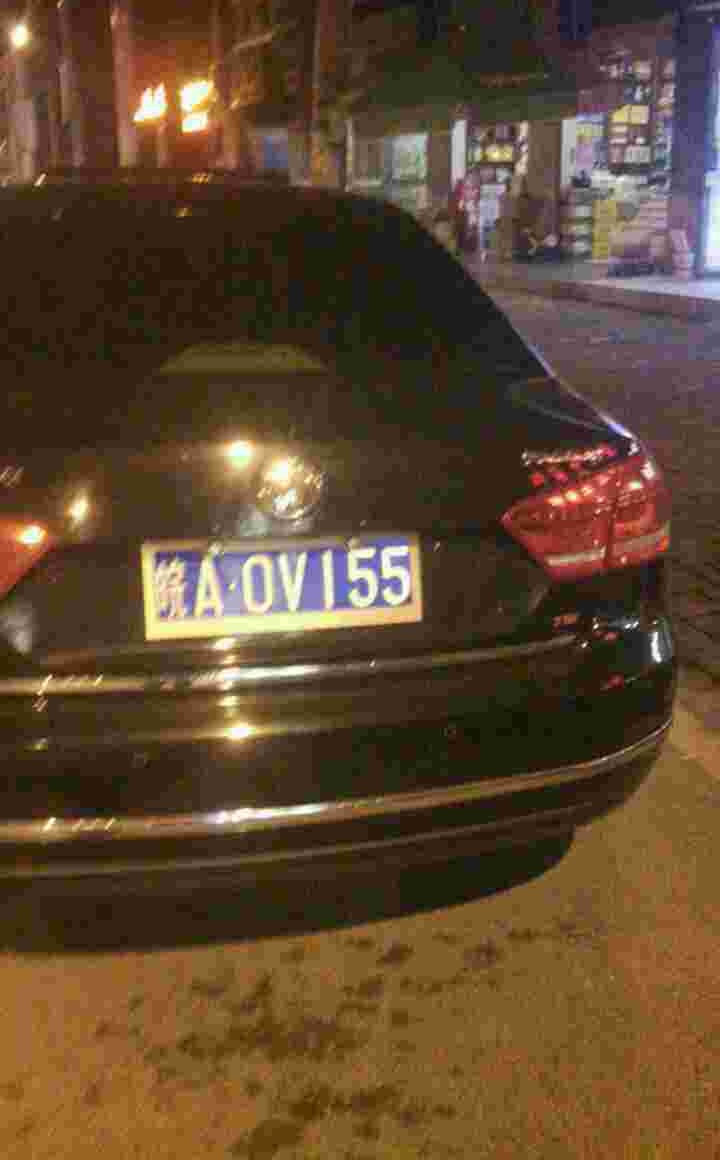plate: (152, 527, 426, 632)
